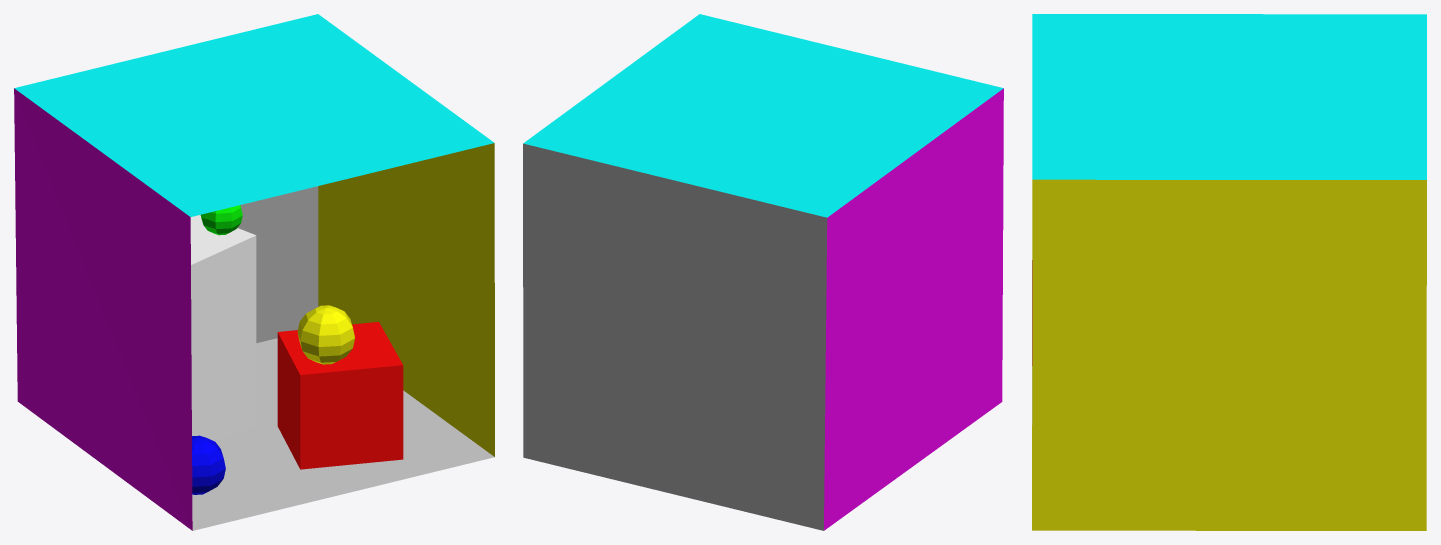
Rendered from loveBox2.obj.
The picture shows the model from 3 angles, left to right: view 1: azimuth 30°, elevation 25°; view 2: azimuth 150°, elevation 25°; view 3: azimuth 270°, elevation 25°; orthographic projection. The views are drawn at different scales.
Parts seen in each view (by area): view 1: left_wall, ceiling, right_wall, floor, short_box, tall_box, back_wall, sphere1, sphere2, sphere3; view 2: back_wall, left_wall, ceiling; view 3: right_wall, ceiling.
Part boxes in pixels (x1,y1,x2,y2): left_wall: [14, 88, 192, 530]; ceiling: [14, 14, 494, 216]; right_wall: [318, 143, 494, 456]; floor: [192, 338, 494, 530]; short_box: [277, 322, 403, 469]; tall_box: [190, 215, 256, 442]; back_wall: [237, 186, 318, 343]; sphere1: [297, 305, 354, 364]; sphere2: [192, 435, 225, 494]; sphere3: [200, 205, 242, 235]; back_wall: [523, 143, 827, 530]; left_wall: [824, 88, 1003, 530]; ceiling: [523, 14, 1003, 217]; right_wall: [1032, 179, 1426, 530]; ceiling: [1032, 14, 1426, 179].
Size of the model in its own units: 5.56 by 5.49 by 5.6.
